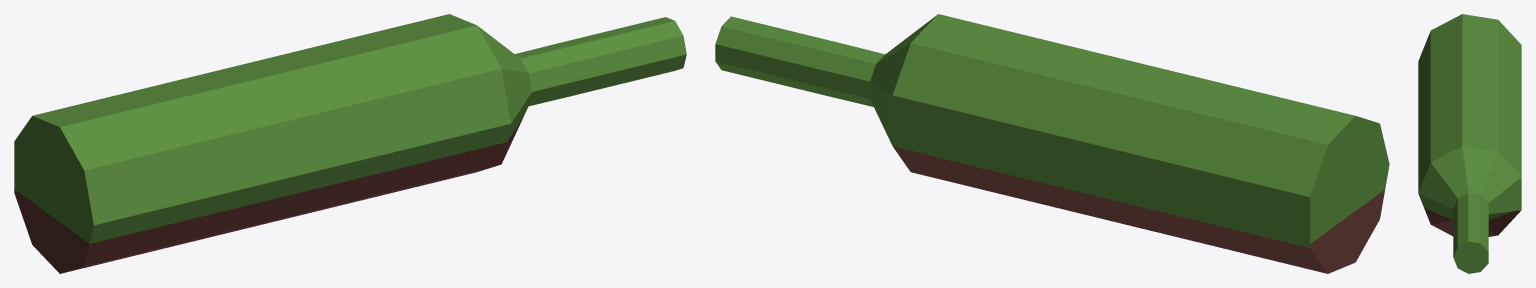
Rendered from bottlewine4.fbx.
3 renders of one model, left to right at view 1: azimuth 30°, elevation 25°; view 2: azimuth 150°, elevation 25°; view 3: azimuth 270°, elevation 25°, orthographic. The views are drawn at different scales.
Visible parts, largest first — view 1: Cylinder.002; view 2: Cylinder.002; view 3: Cylinder.002.
Part boxes in pixels (<box>): Cylinder.002: <box>14,14,686,273</box>; Cylinder.002: <box>715,14,1389,273</box>; Cylinder.002: <box>1418,14,1521,273</box>.
Bounding box in the file's own units: 71.32 × 16.13 × 15.89.
